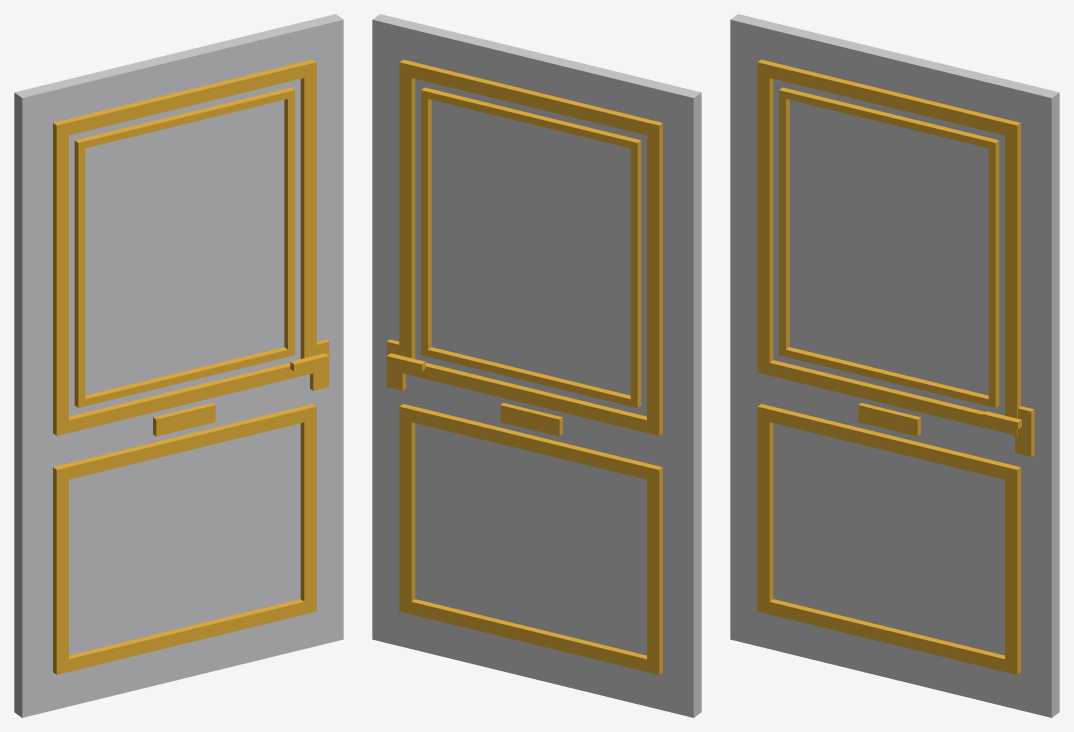
The model's file is SM_Door_obelisk_inner_120x220.fbx.
The picture shows the model from 3 angles, left to right: view 1: azimuth 30°, elevation 25°; view 2: azimuth 150°, elevation 25°; view 3: azimuth 330°, elevation 25°; orthographic projection.
Parts seen in each view (by area): view 1: SM_Door_obelisk_inner_120x220; view 2: SM_Door_obelisk_inner_120x220; view 3: SM_Door_obelisk_inner_120x220.
Part boxes in pixels (x1,y1,x2,y2): SM_Door_obelisk_inner_120x220: (14, 14, 343, 717); SM_Door_obelisk_inner_120x220: (372, 14, 701, 717); SM_Door_obelisk_inner_120x220: (730, 14, 1059, 717).
Bounding box in the file's own units: 1.19 × 2.19 × 0.175.
